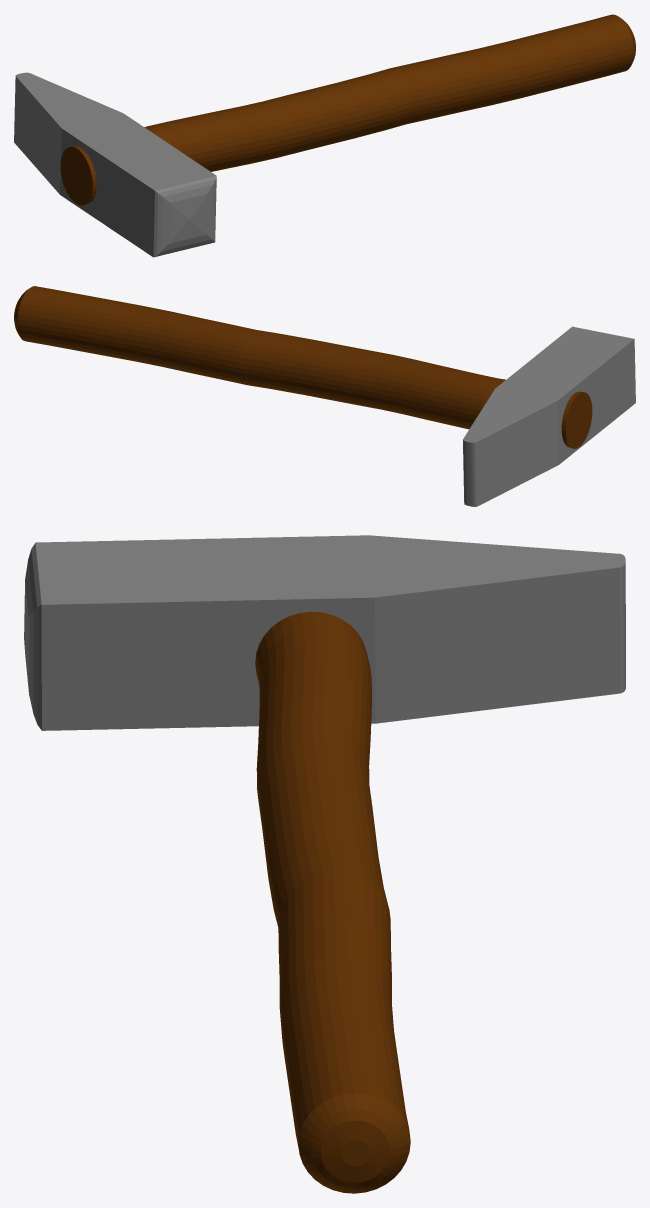
File: hammer_scaled.dae
3 renders of one model, top to bottom at view 1: azimuth 30°, elevation 25°; view 2: azimuth 150°, elevation 25°; view 3: azimuth 270°, elevation 25°, orthographic. The views are drawn at different scales.
Visible parts, largest first — view 1: Cylinder, Cube; view 2: Cylinder, Cube; view 3: Cube, Cylinder.
Boxes of the visible parts, x1,y1,x2,y2 form: Cylinder: [60, 14, 635, 205]; Cube: [14, 72, 216, 257]; Cylinder: [14, 286, 592, 448]; Cube: [463, 326, 635, 506]; Cube: [24, 535, 625, 730]; Cylinder: [255, 611, 410, 1193].
Bounding box in the file's own units: 0.1436 × 0.0686 × 0.0177.
